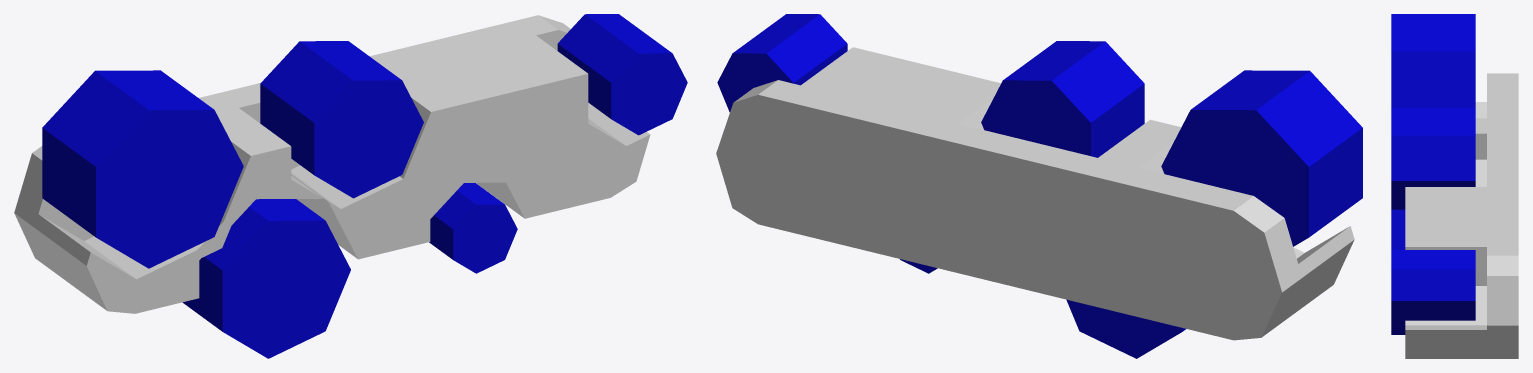
File: Ch_Lite_China_一_01.fbx
The picture shows the model from 3 angles, left to right: view 1: azimuth 30°, elevation 25°; view 2: azimuth 150°, elevation 25°; view 3: azimuth 270°, elevation 25°; orthographic projection. The views are drawn at different scales.
Parts seen in each view (by area): view 1: sphere1; view 2: sphere1; view 3: sphere1.
Part boxes in pixels (x1,y1,x2,y2): sphere1: (14, 14, 687, 358); sphere1: (716, 14, 1362, 358); sphere1: (1391, 14, 1518, 358).
Size of the model in its own units: 0.9432 by 0.423 by 0.2242.
